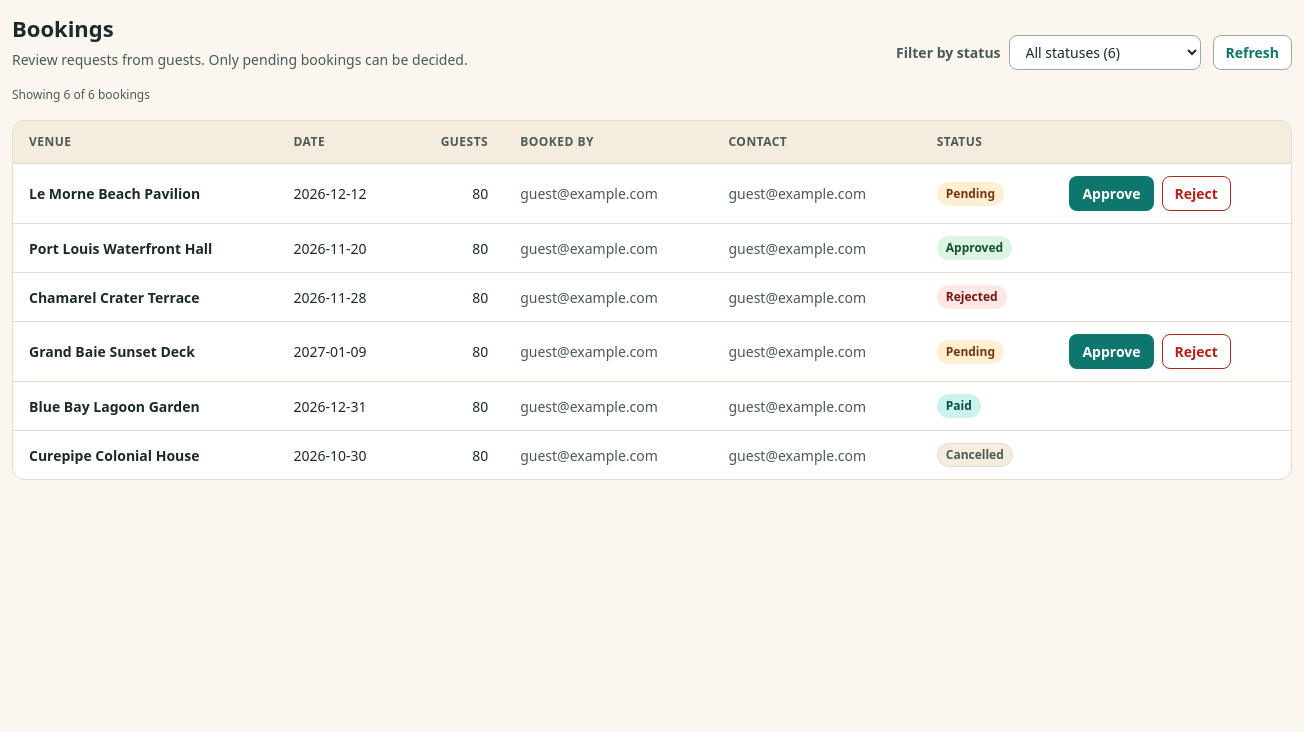
Test case: BookingsPanel: approve / reject › keeps the optimistic status when the server replies without a body
Expected: the table is shown, top-left (13, 121), bottom-right (1291, 479)
Click the button "Approve" in the row of "Le Morne Beach Pavilion". click: click(1111, 194)
box: top-left (1069, 176), bottom-right (1154, 211)
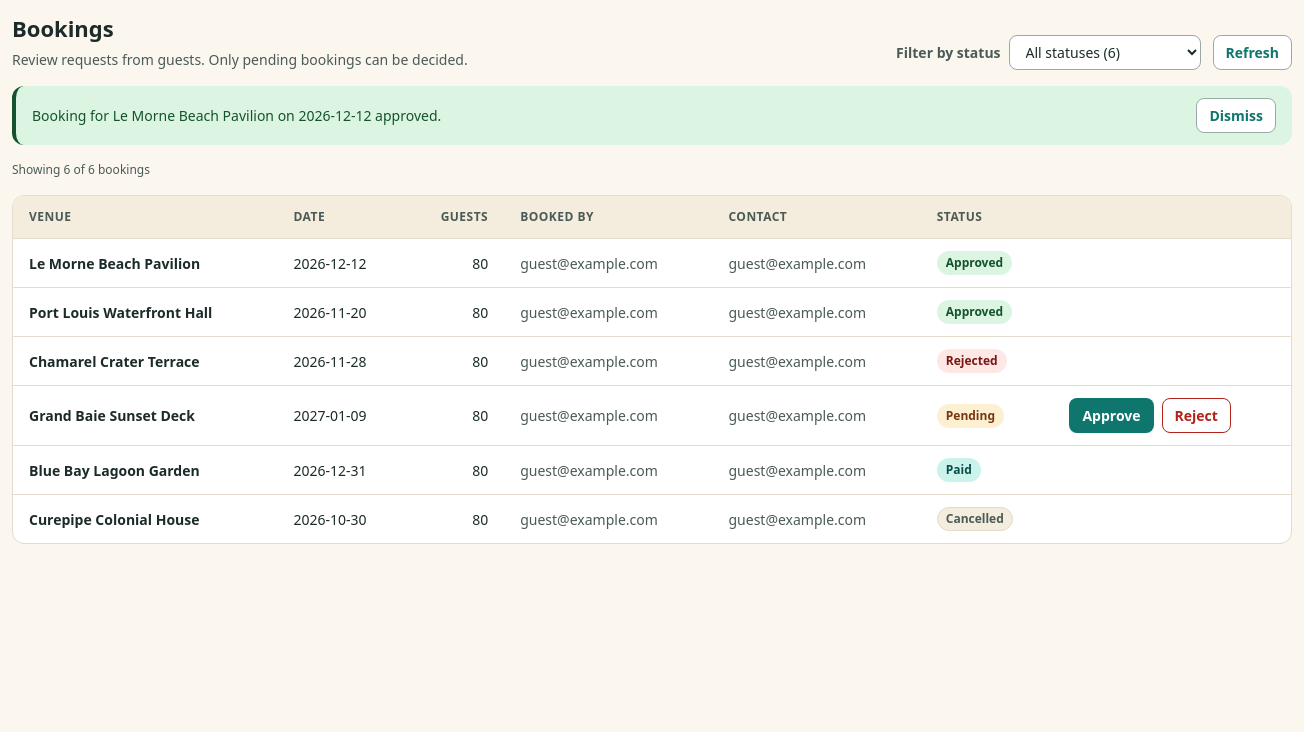
Now the text "approved." is shown, box top-left (32, 106), bottom-right (441, 125)
Now the 1st text "Approved" is shown, box top-left (937, 251), bottom-right (1012, 275)
